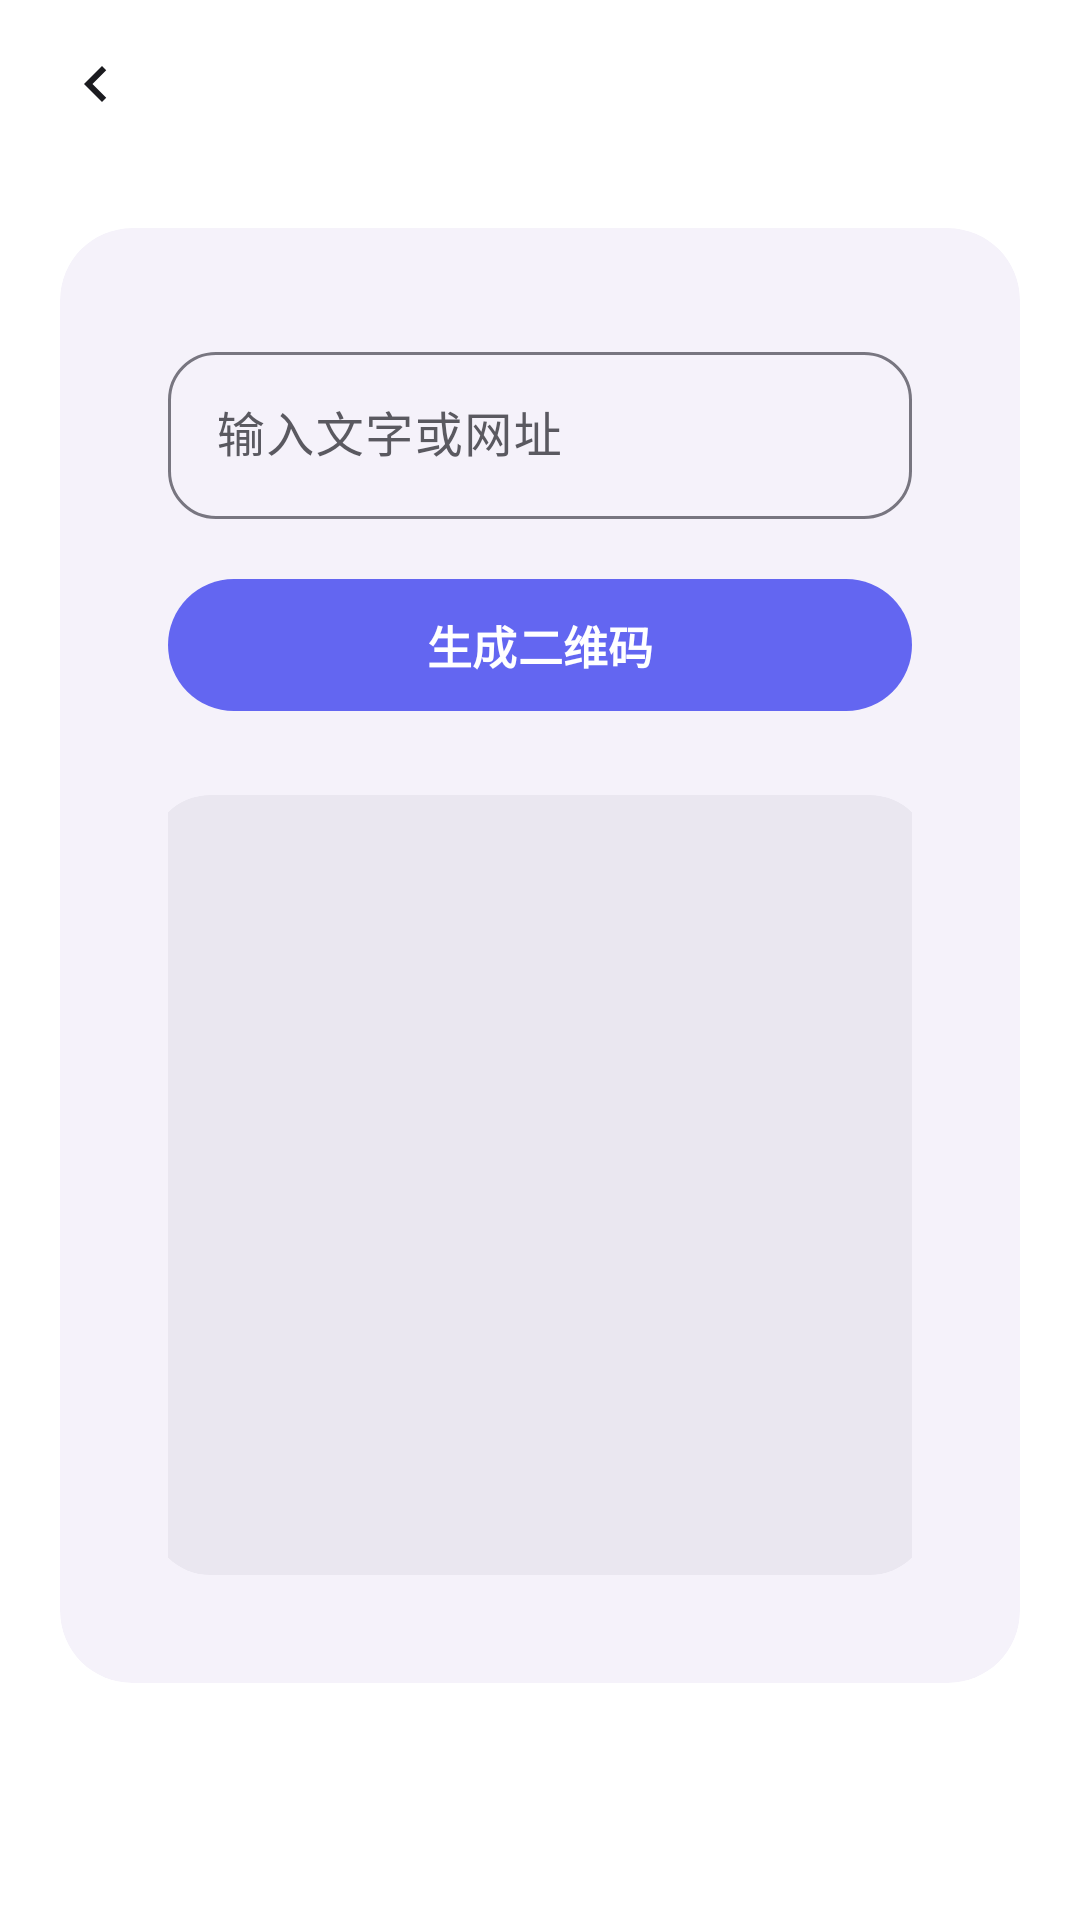

Screen size 1080px x 1920px. Icon name, then its box in pixels as (x1, y1, x2, y2):
返回: (84, 66, 106, 102)
